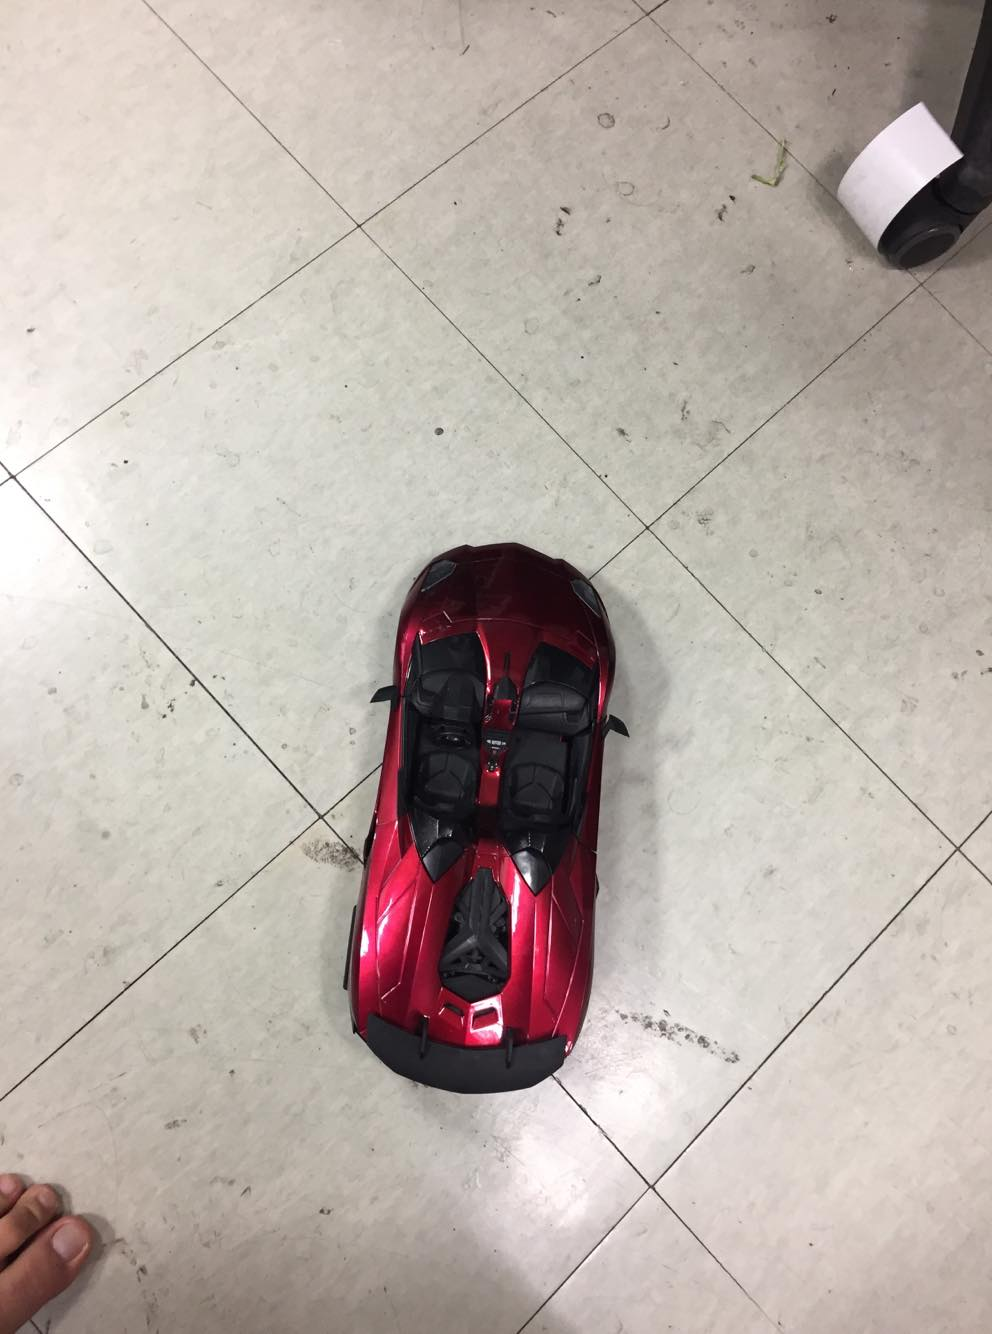car: (350, 520, 617, 1113)
